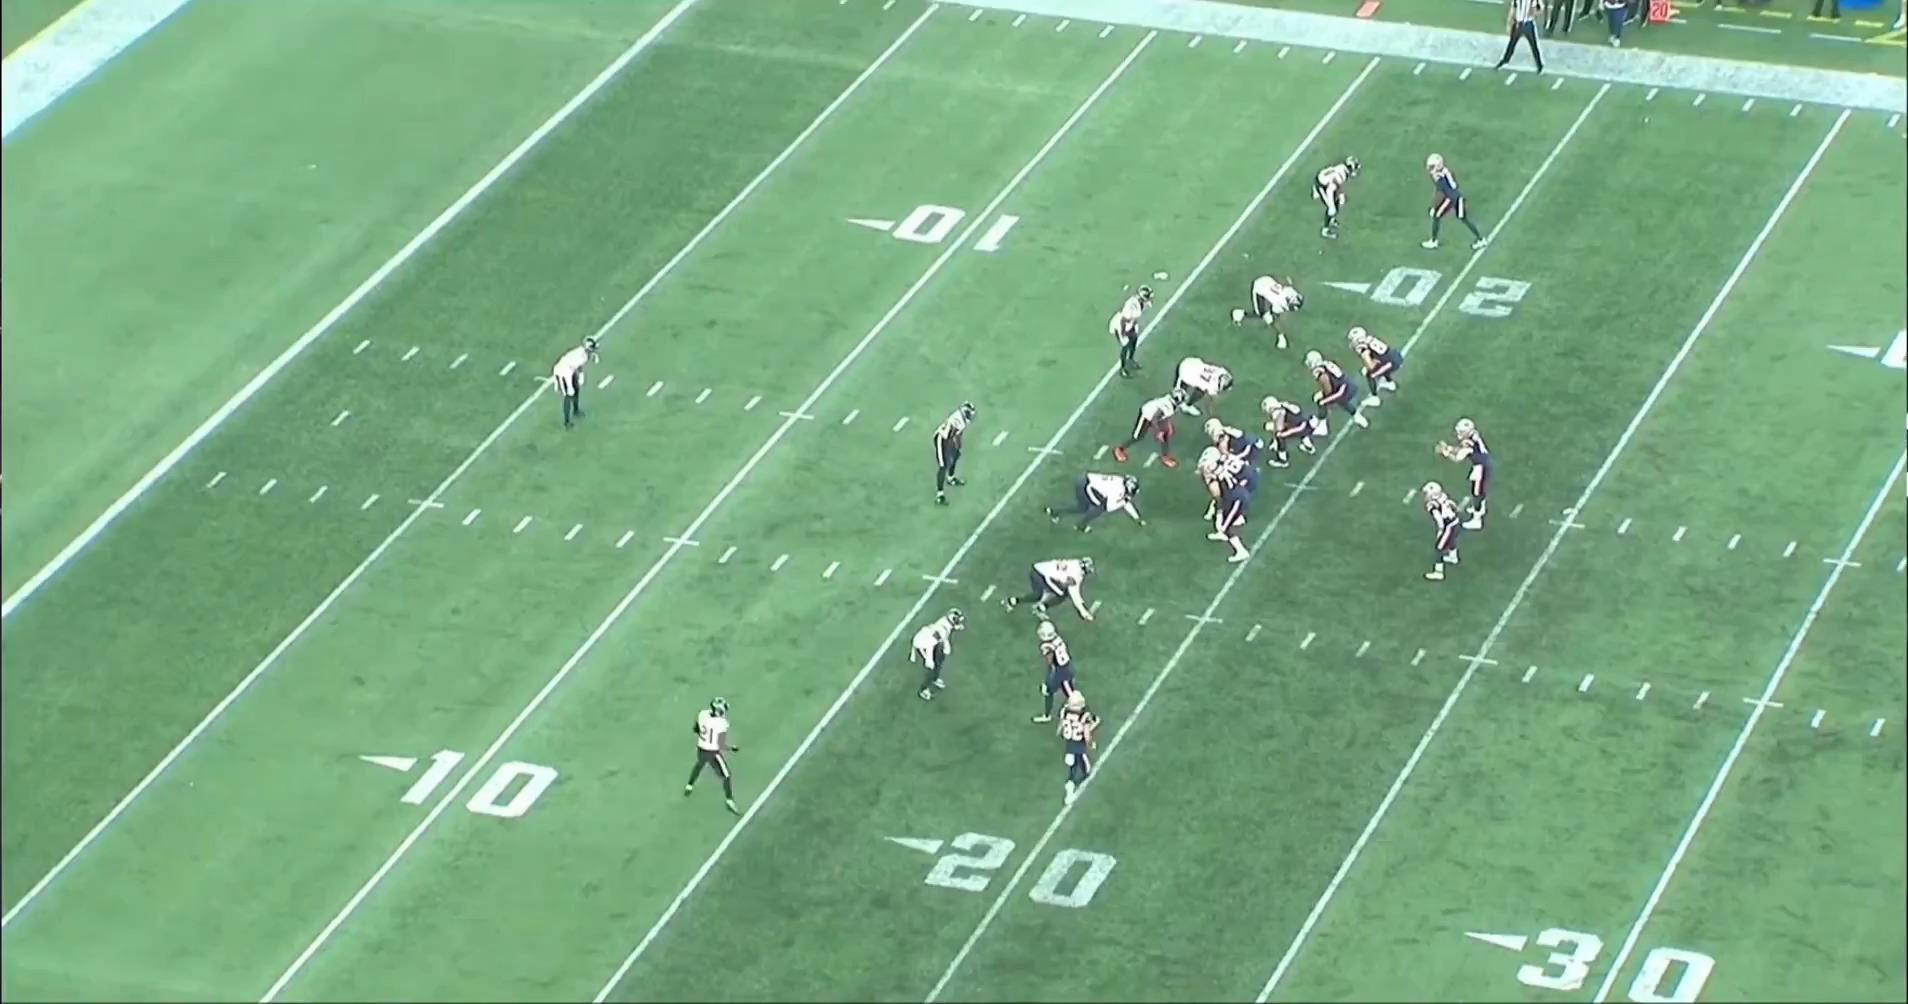player: (678, 697, 745, 820), (1414, 150, 1487, 255), (1047, 472, 1153, 540), (1431, 418, 1492, 531), (1109, 393, 1190, 473), (1005, 557, 1098, 626), (1198, 459, 1257, 566), (1234, 269, 1311, 349), (1306, 352, 1373, 440), (917, 609, 976, 707), (1050, 689, 1097, 806), (544, 331, 596, 433), (930, 399, 979, 506), (1040, 619, 1086, 728), (1346, 323, 1404, 408), (1104, 285, 1153, 384), (1162, 355, 1235, 421), (1267, 398, 1330, 473), (1309, 153, 1360, 244), (1417, 482, 1461, 587), (1205, 418, 1268, 471), (1204, 442, 1265, 491)
ref: (1490, 0, 1552, 76)
